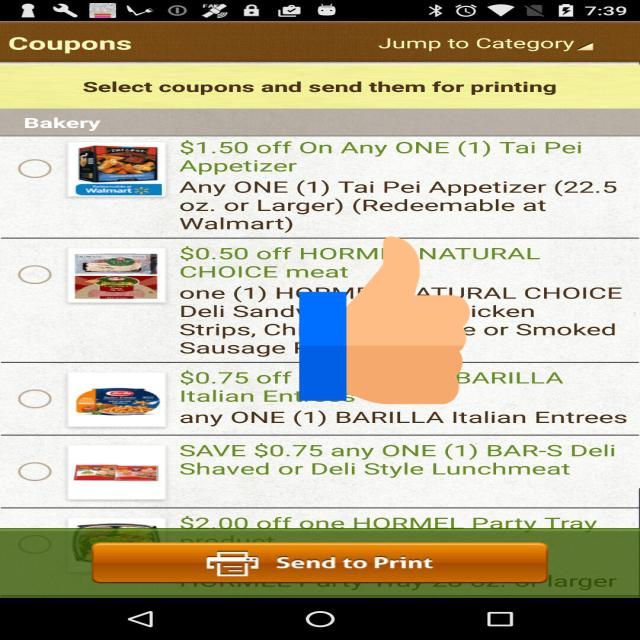privacy zuckering: (299, 232, 470, 408)
